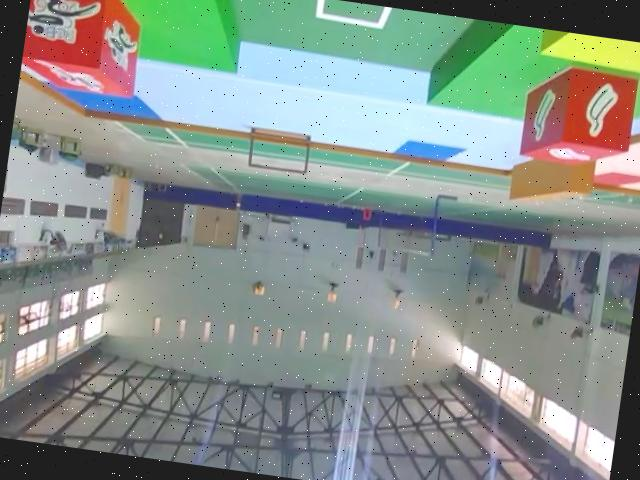R1: (18, 0, 150, 103)
R2 Real: (517, 59, 640, 178)
